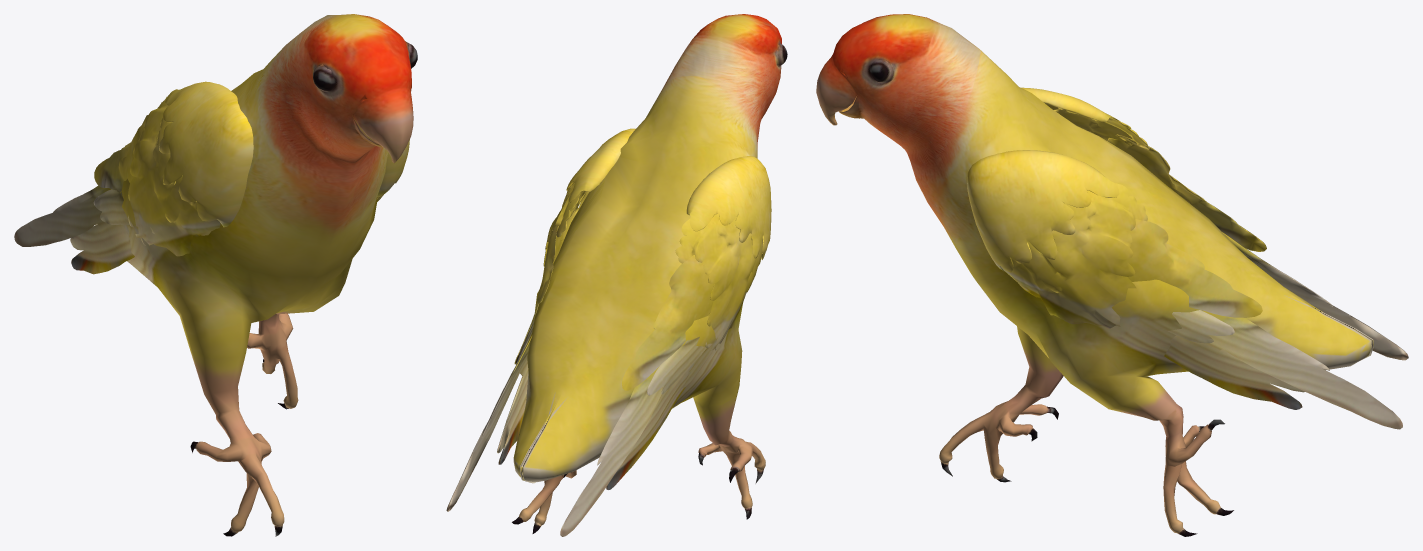
Rendered from perroquet.glb.
3 renders of one model, left to right at view 1: azimuth 30°, elevation 25°; view 2: azimuth 150°, elevation 25°; view 3: azimuth 270°, elevation 25°, orthographic. The views are drawn at different scales.
Visible parts, largest first — view 1: lovebird, Love_wings; view 2: lovebird, Love_wings; view 3: lovebird, Love_wings.
Part boxes in pixels (x1,y1,x2,y2): lovebird: [95, 14, 417, 536]; Love_wings: [14, 81, 409, 274]; lovebird: [512, 14, 787, 533]; Love_wings: [446, 128, 771, 536]; lovebird: [816, 14, 1373, 536]; Love_wings: [967, 87, 1408, 429].
Size of the model in its own units: 0.1612 by 0.3649 by 0.3957.
2 materials, 2 textured.
